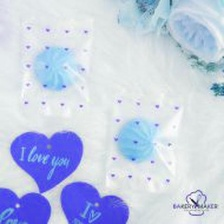snack: (10, 9, 99, 121), (100, 86, 189, 194)
